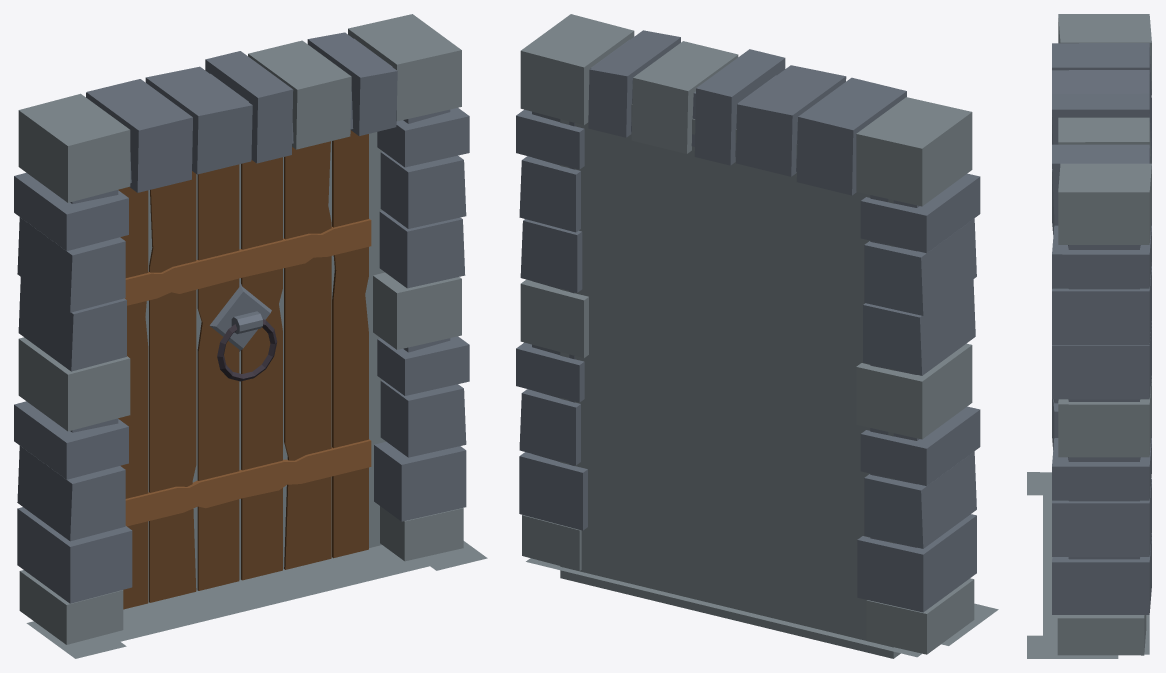
File: door.glb
3 views of the same model, side by side, from view 1: azimuth 30°, elevation 25°; view 2: azimuth 150°, elevation 25°; view 3: azimuth 270°, elevation 25° (orthographic). The views are drawn at different scales.
Parts seen in each view (by area): view 1: Door_Straight, Door_Straight.001; view 2: Door_Straight; view 3: Door_Straight.
Part boxes in pixels (<box>): Door_Straight: <box>14,14,487,658</box>; Door_Straight.001: <box>118,130,371,609</box>; Door_Straight: <box>516,14,998,658</box>; Door_Straight: <box>1027,14,1151,658</box>.
Bounding box in the file's own units: 0.5014 × 0.6003 × 0.1418.
